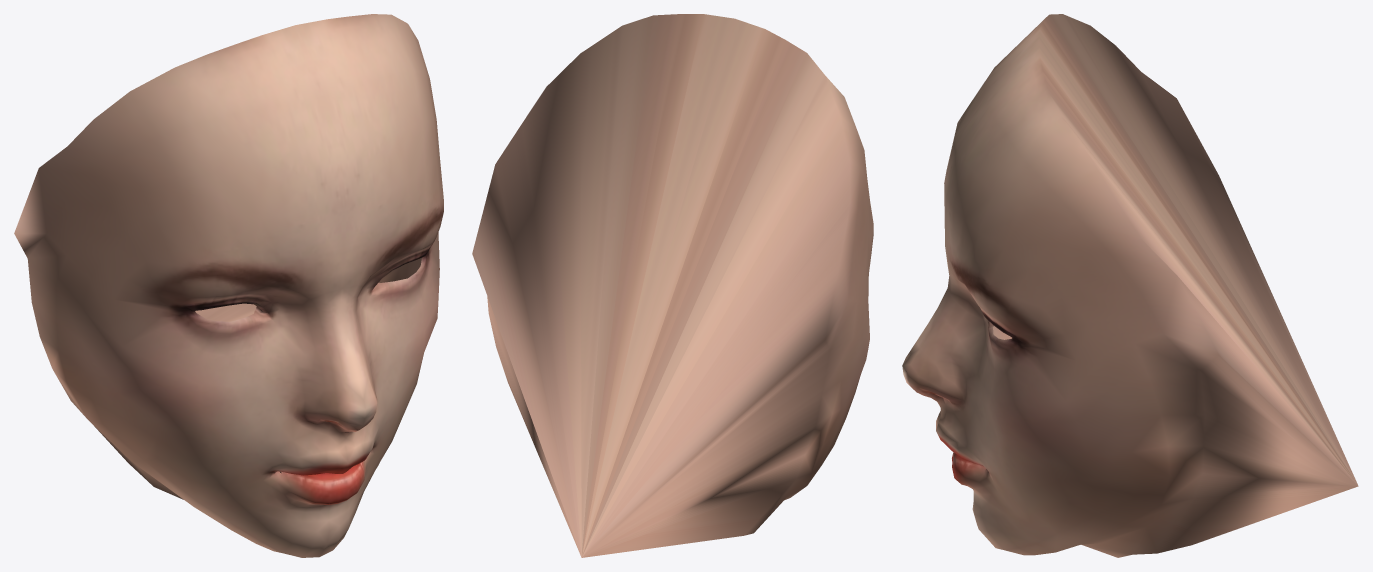
3 views of the same model, side by side, from view 1: azimuth 30°, elevation 25°; view 2: azimuth 150°, elevation 25°; view 3: azimuth 270°, elevation 25° (orthographic). The views are drawn at different scales.
Parts seen in each view (by area): view 1: face1.002; view 2: face1.002; view 3: face1.002.
Boxes of the visible parts, bbox=[...] form: face1.002: bbox=[14, 14, 443, 557]; face1.002: bbox=[472, 14, 873, 557]; face1.002: bbox=[902, 14, 1358, 557].
Size of the model in its own units: 11.54 by 15.27 by 12.4.
1 material, 1 textured.
